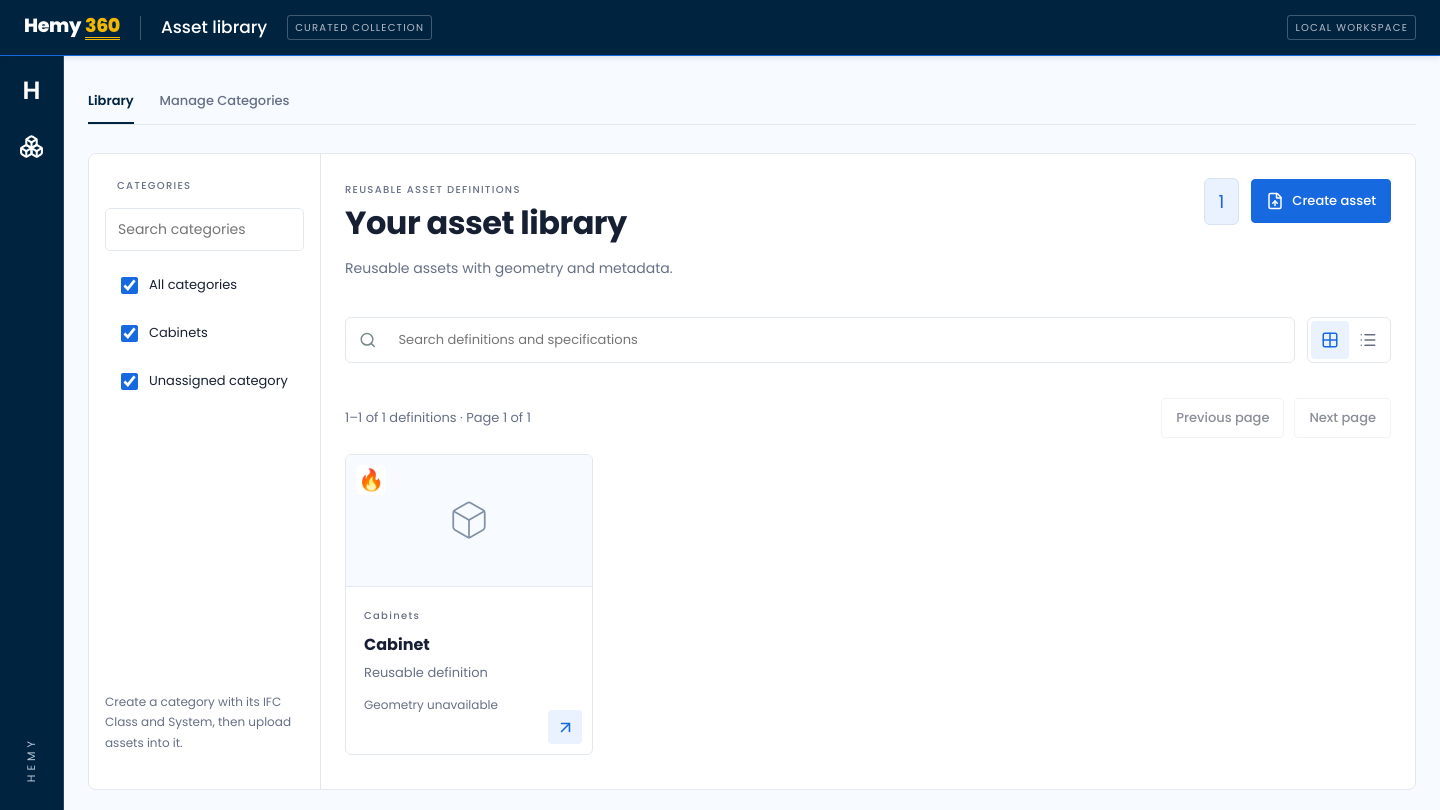
Test: curated catalog › lists saved category assignments independently of model asset values
This screenshot has width=1440, height=810.
Click the button "Manage Categories" at x=225, y=100, box x1=160 y1=76 x2=290 y2=124
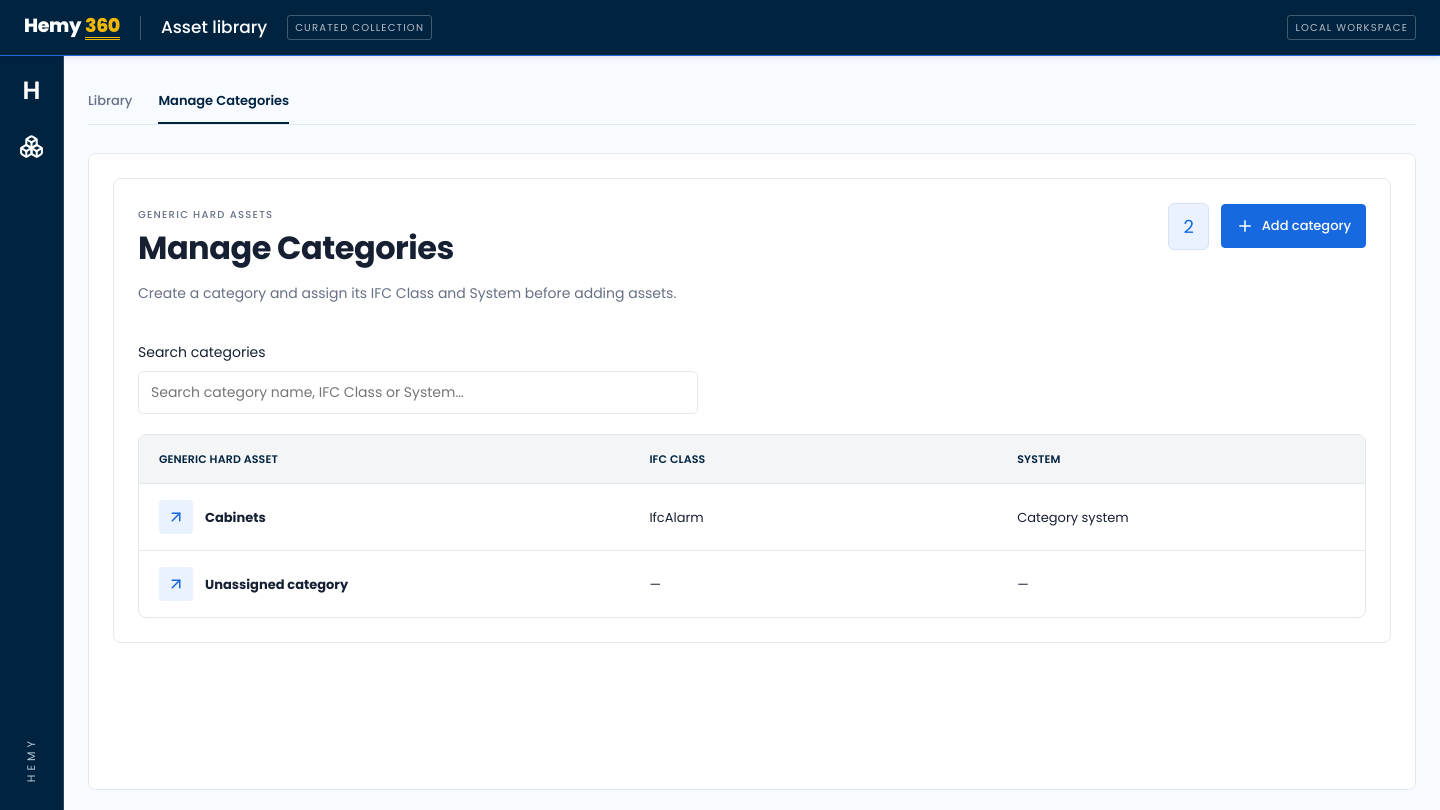
Expected: the cells read "IfcAlarm", "Category system", in this order, x1=629 y1=484 x2=997 y2=551; x1=997 y1=484 x2=1365 y2=551
Expected: the cells read "—", "—", in this order, x1=629 y1=551 x2=997 y2=617; x1=997 y1=551 x2=1365 y2=617
